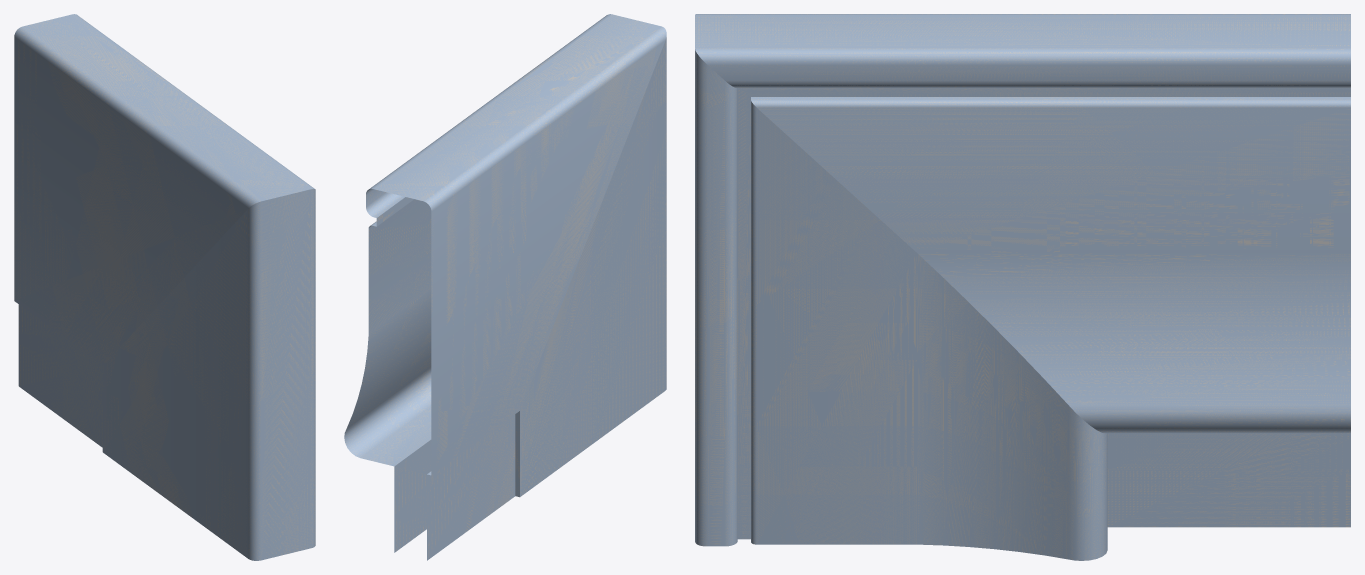
Rendered from original-33.obj.
3 views of the same model, side by side, from view 1: azimuth 30°, elevation 25°; view 2: azimuth 150°, elevation 25°; view 3: azimuth 270°, elevation 25° (orthographic). The views are drawn at different scales.
Visible parts, largest first — view 1: DF_21_TL2/DF_21_TL/mesh17/mesh17-geometry#mesh17-geometry; view 2: DF_21_TL2/DF_21_TL/mesh17/mesh17-geometry#mesh17-geometry; view 3: DF_21_TL2/DF_21_TL/mesh17/mesh17-geometry#mesh17-geometry.
Boxes of the visible parts, x1,y1,x2,y2 form: DF_21_TL2/DF_21_TL/mesh17/mesh17-geometry#mesh17-geometry: [14, 14, 315, 560]; DF_21_TL2/DF_21_TL/mesh17/mesh17-geometry#mesh17-geometry: [344, 14, 666, 560]; DF_21_TL2/DF_21_TL/mesh17/mesh17-geometry#mesh17-geometry: [695, 14, 1350, 560].
Bounding box in the file's own units: 0.0232 × 0.0912 × 0.11.
